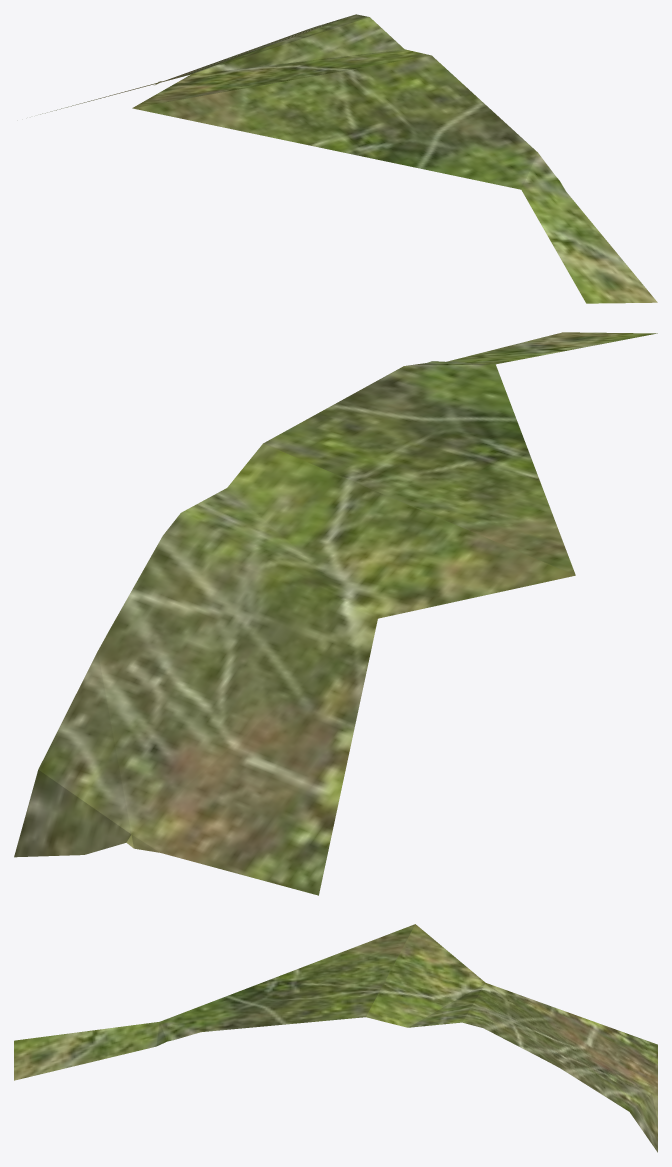
3 views of the same model, one above another, from view 1: azimuth 30°, elevation 25°; view 2: azimuth 150°, elevation 25°; view 3: azimuth 270°, elevation 25° (orthographic). The views are drawn at different scales.
Bounding box in the file's own units: 2.2 × 1.37 × 5.9.
1 material, 1 textured.
